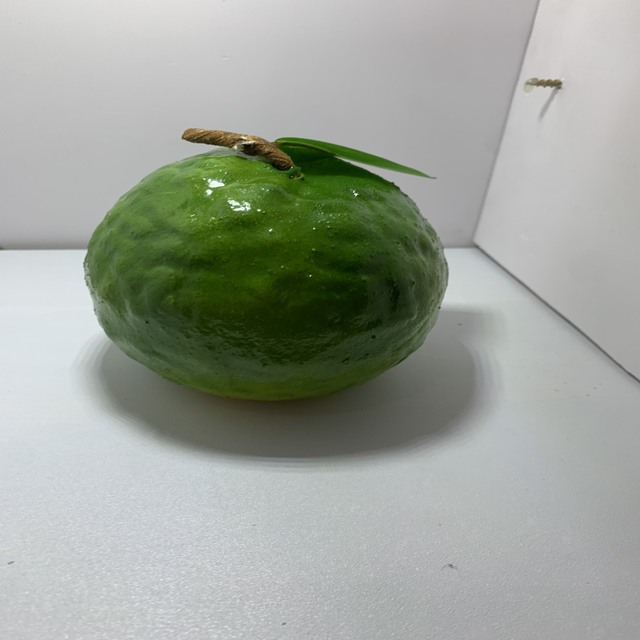Cam xanh: (73, 130, 447, 408)
